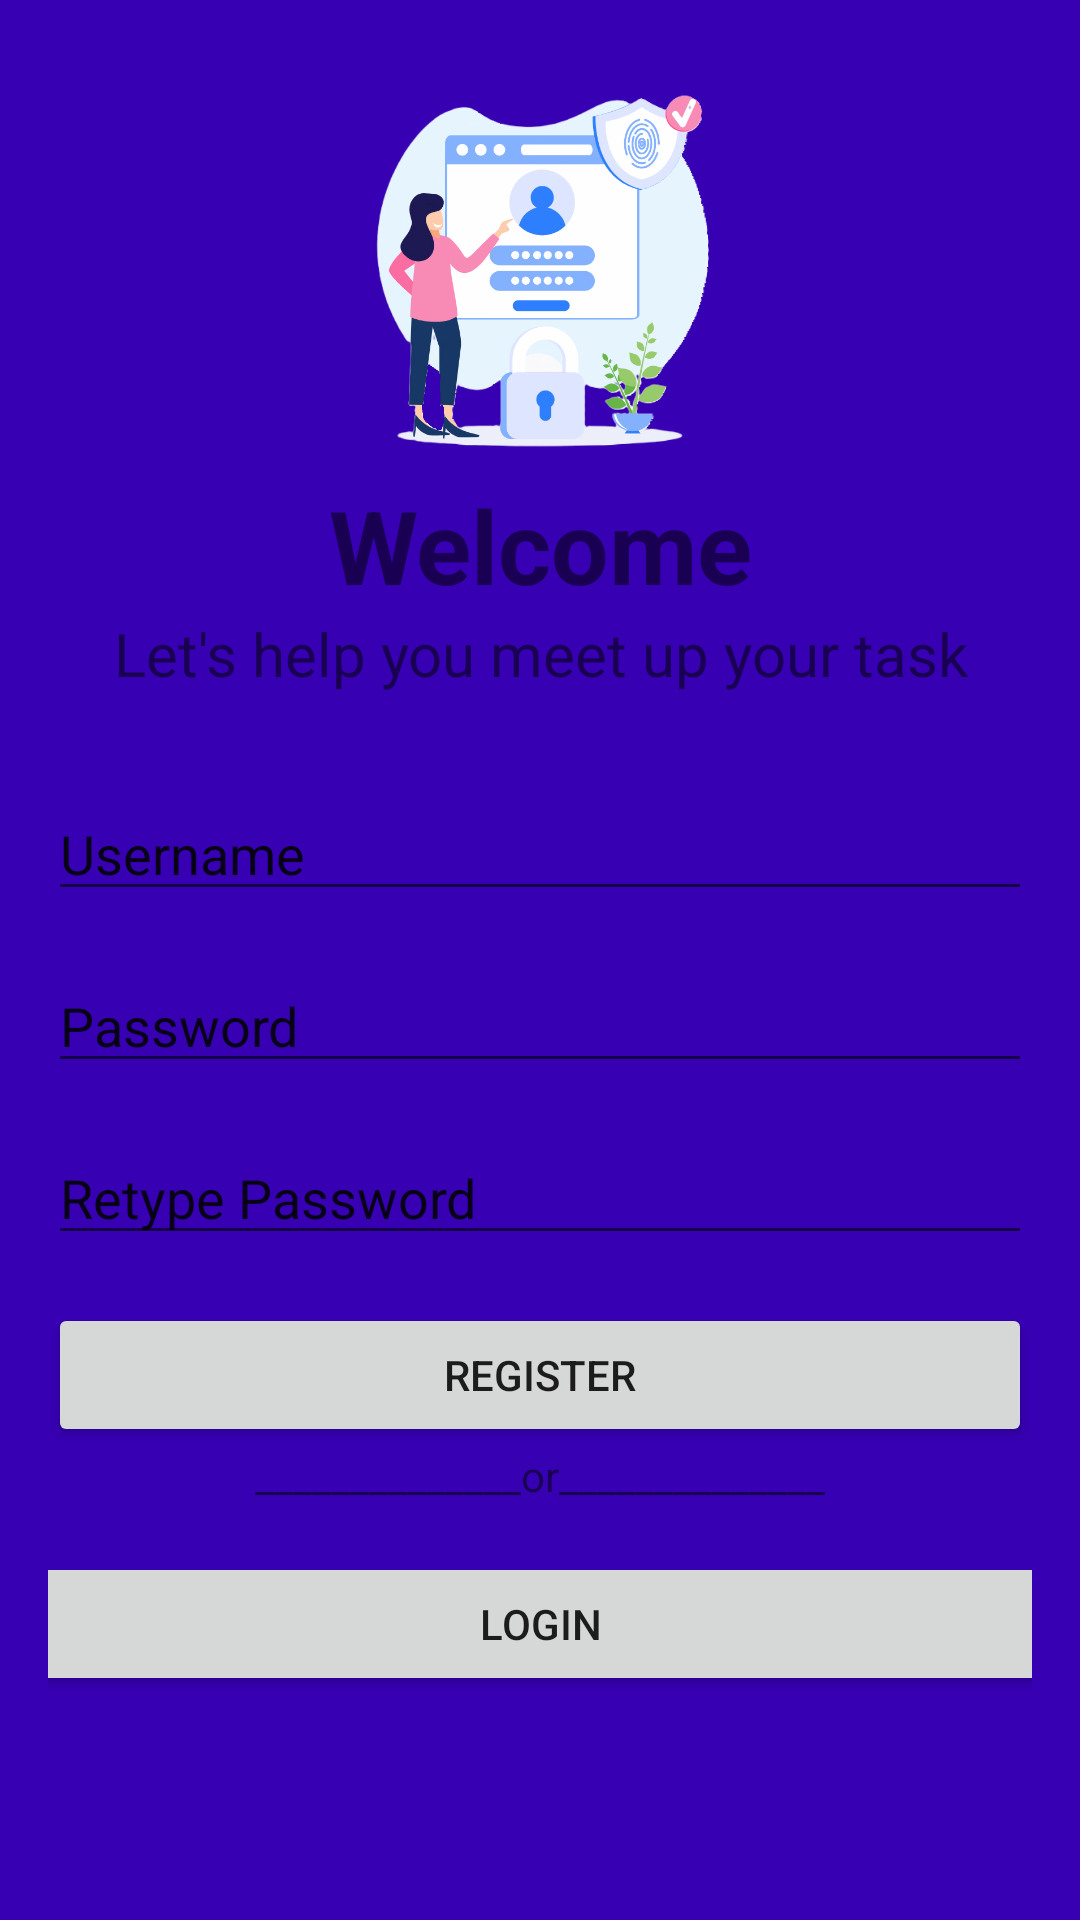

Named icons in this screenshot (1080x1920) and their centers, (x=x, y=y):
loginicon: (x=543, y=271)
